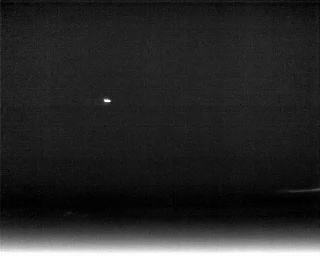AIRPLANE: (102, 96, 113, 105)
